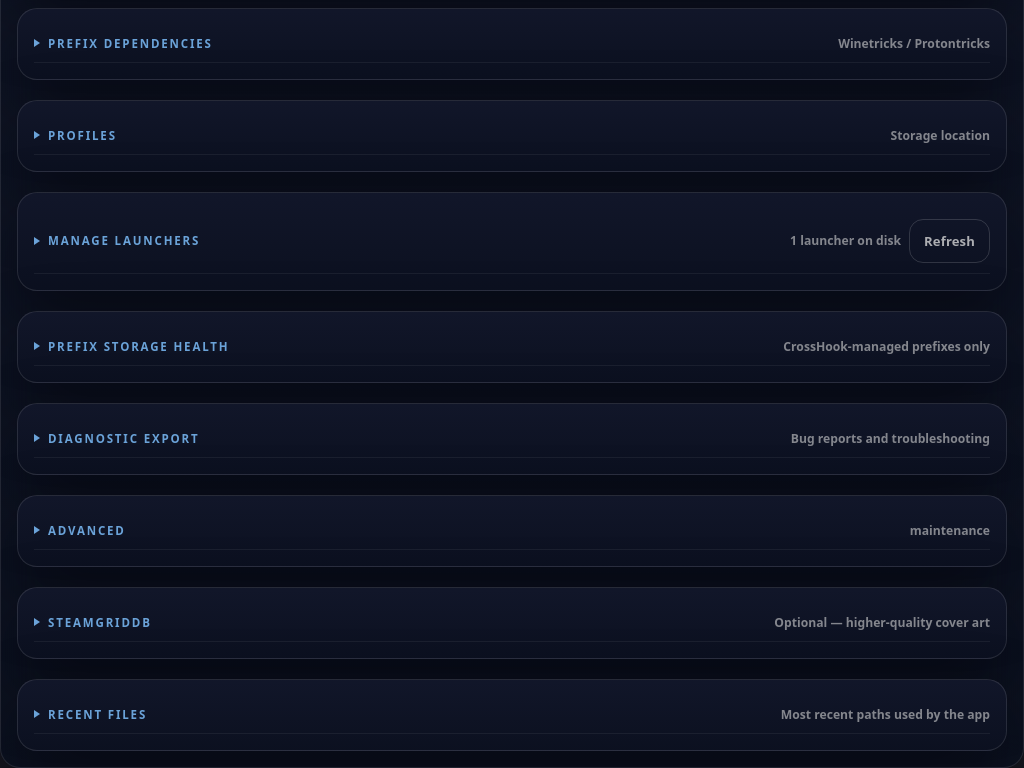
SettingsPanel › clears the umu GAMEID lookup cache with live status feedback
The width and height of the screenshot is (1024, 768).
(page scrolled)
Step 1. Click the text "Advanced" → [87, 530], box x1=48 y1=523 x2=126 y2=538
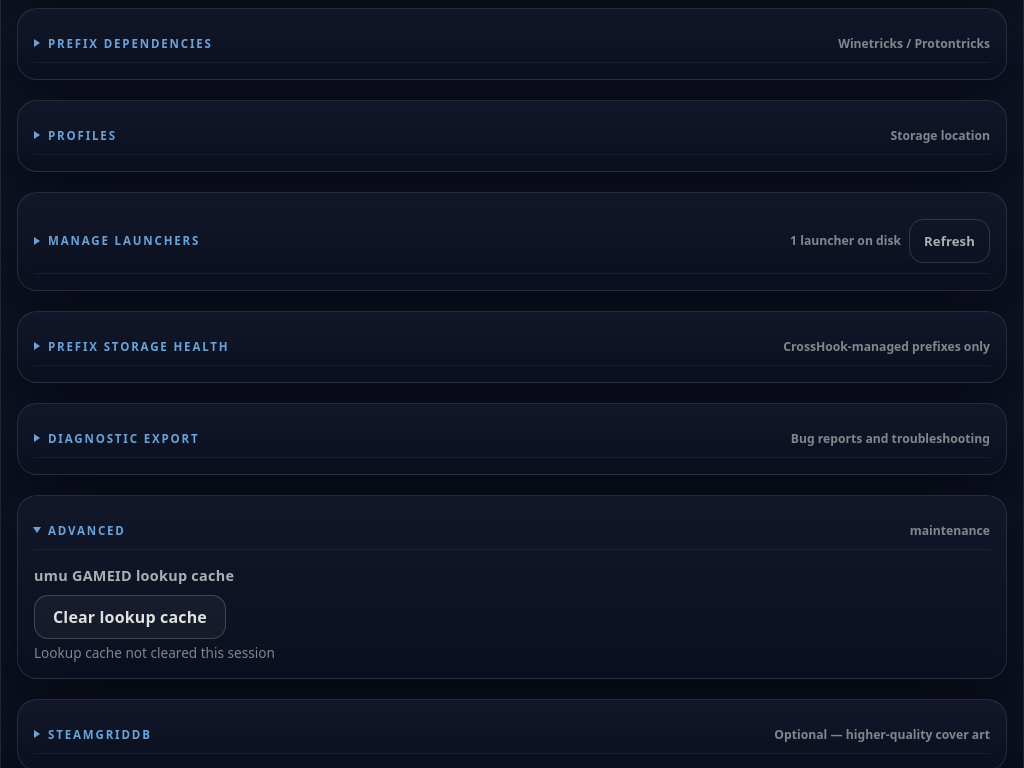
Step 2. Click the button "Clear lookup cache" → [130, 617], box x1=34 y1=595 x2=226 y2=639
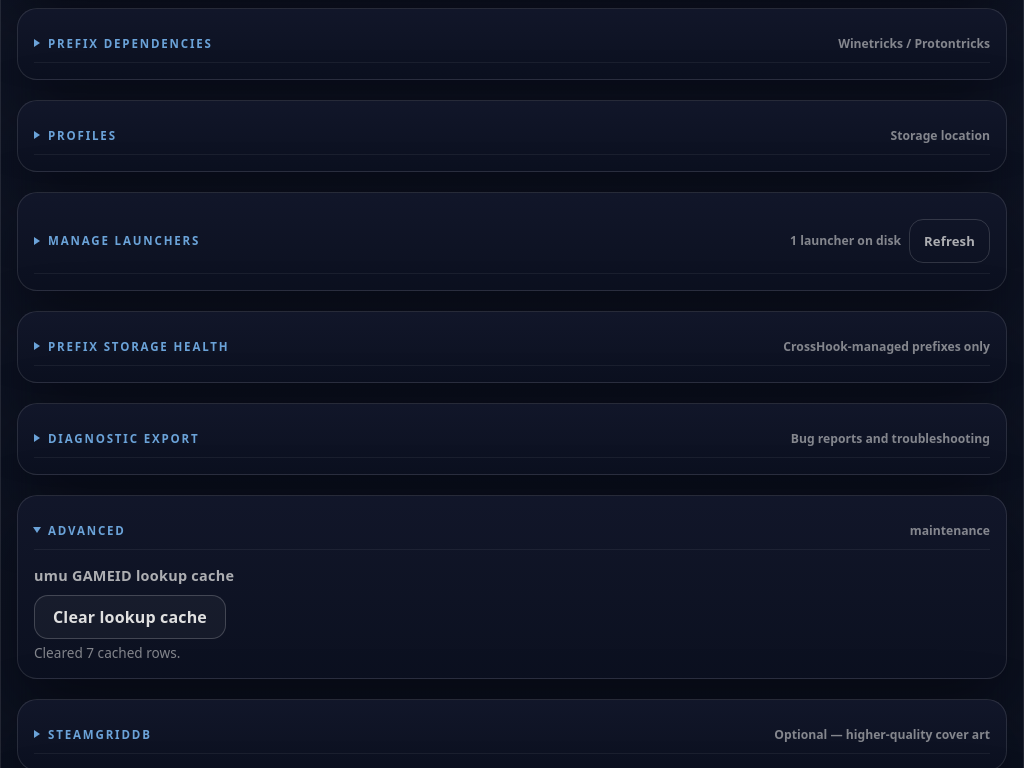
Expected: the text "Cleared 7 cached rows." is shown, x1=34 y1=643 x2=180 y2=662
